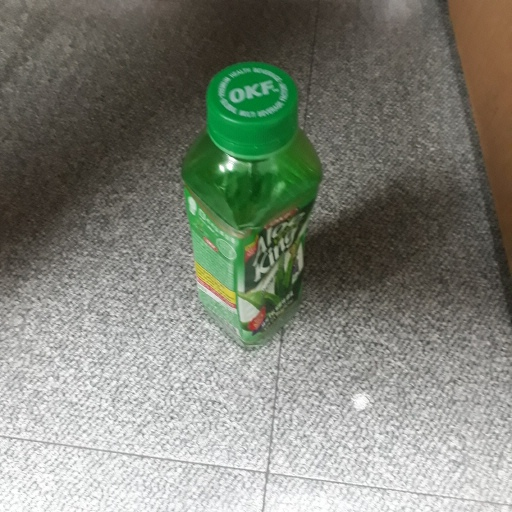Plastic_0: (179, 61, 327, 350)
